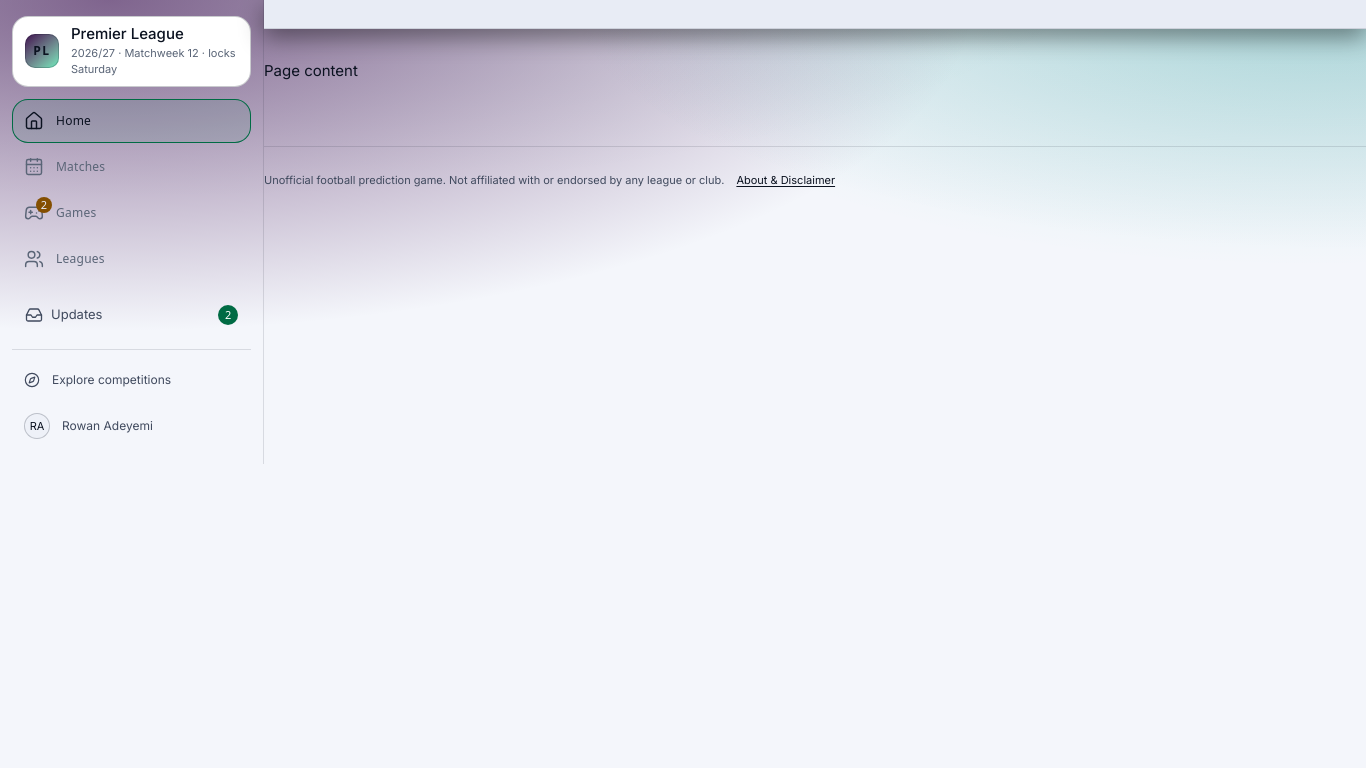
Scenario: the Action Centre › separates what needs the player from what merely happened
Click the button "Updates 2": [132, 315] box [12,293,251,337]
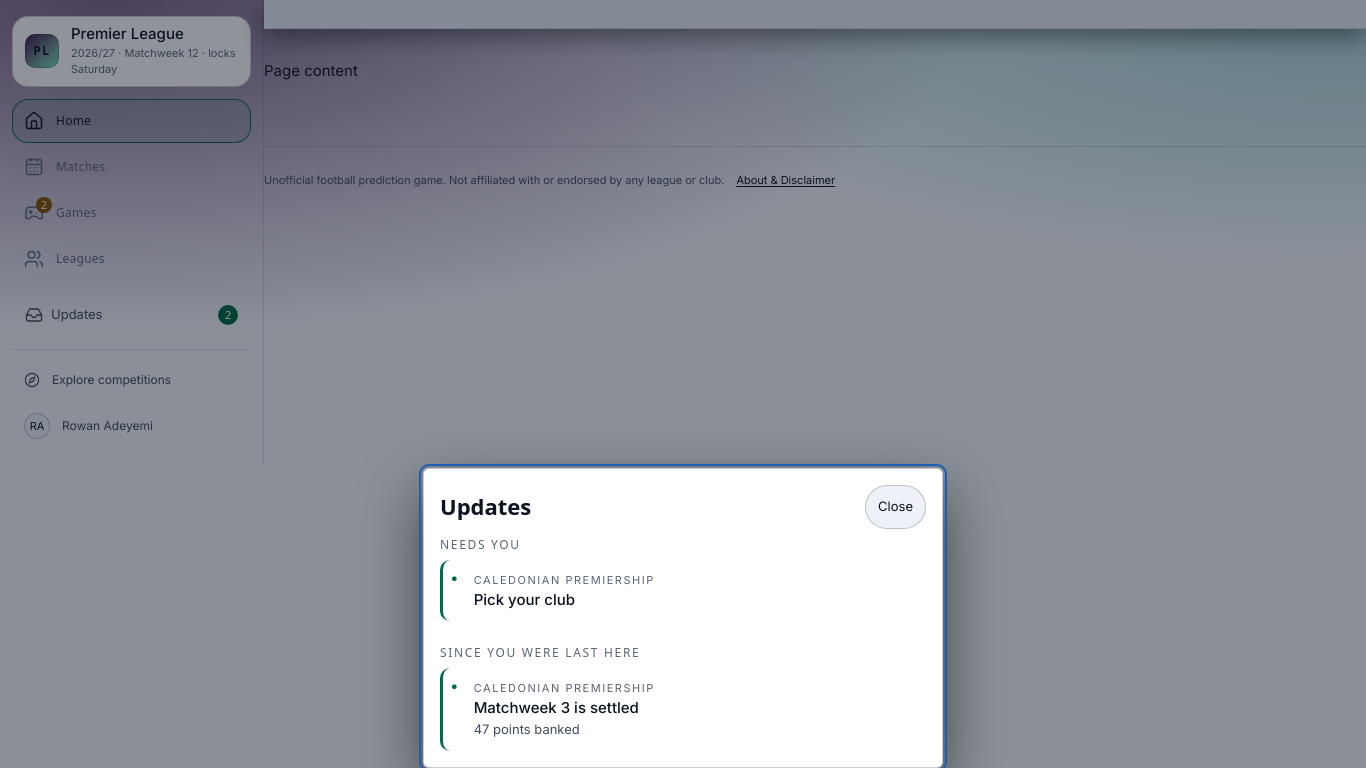
Check: the heading "Needs you" is shown, box [440,536,521,553]
Check: the heading "Since you were last here" is shown, box [440,644,640,661]
